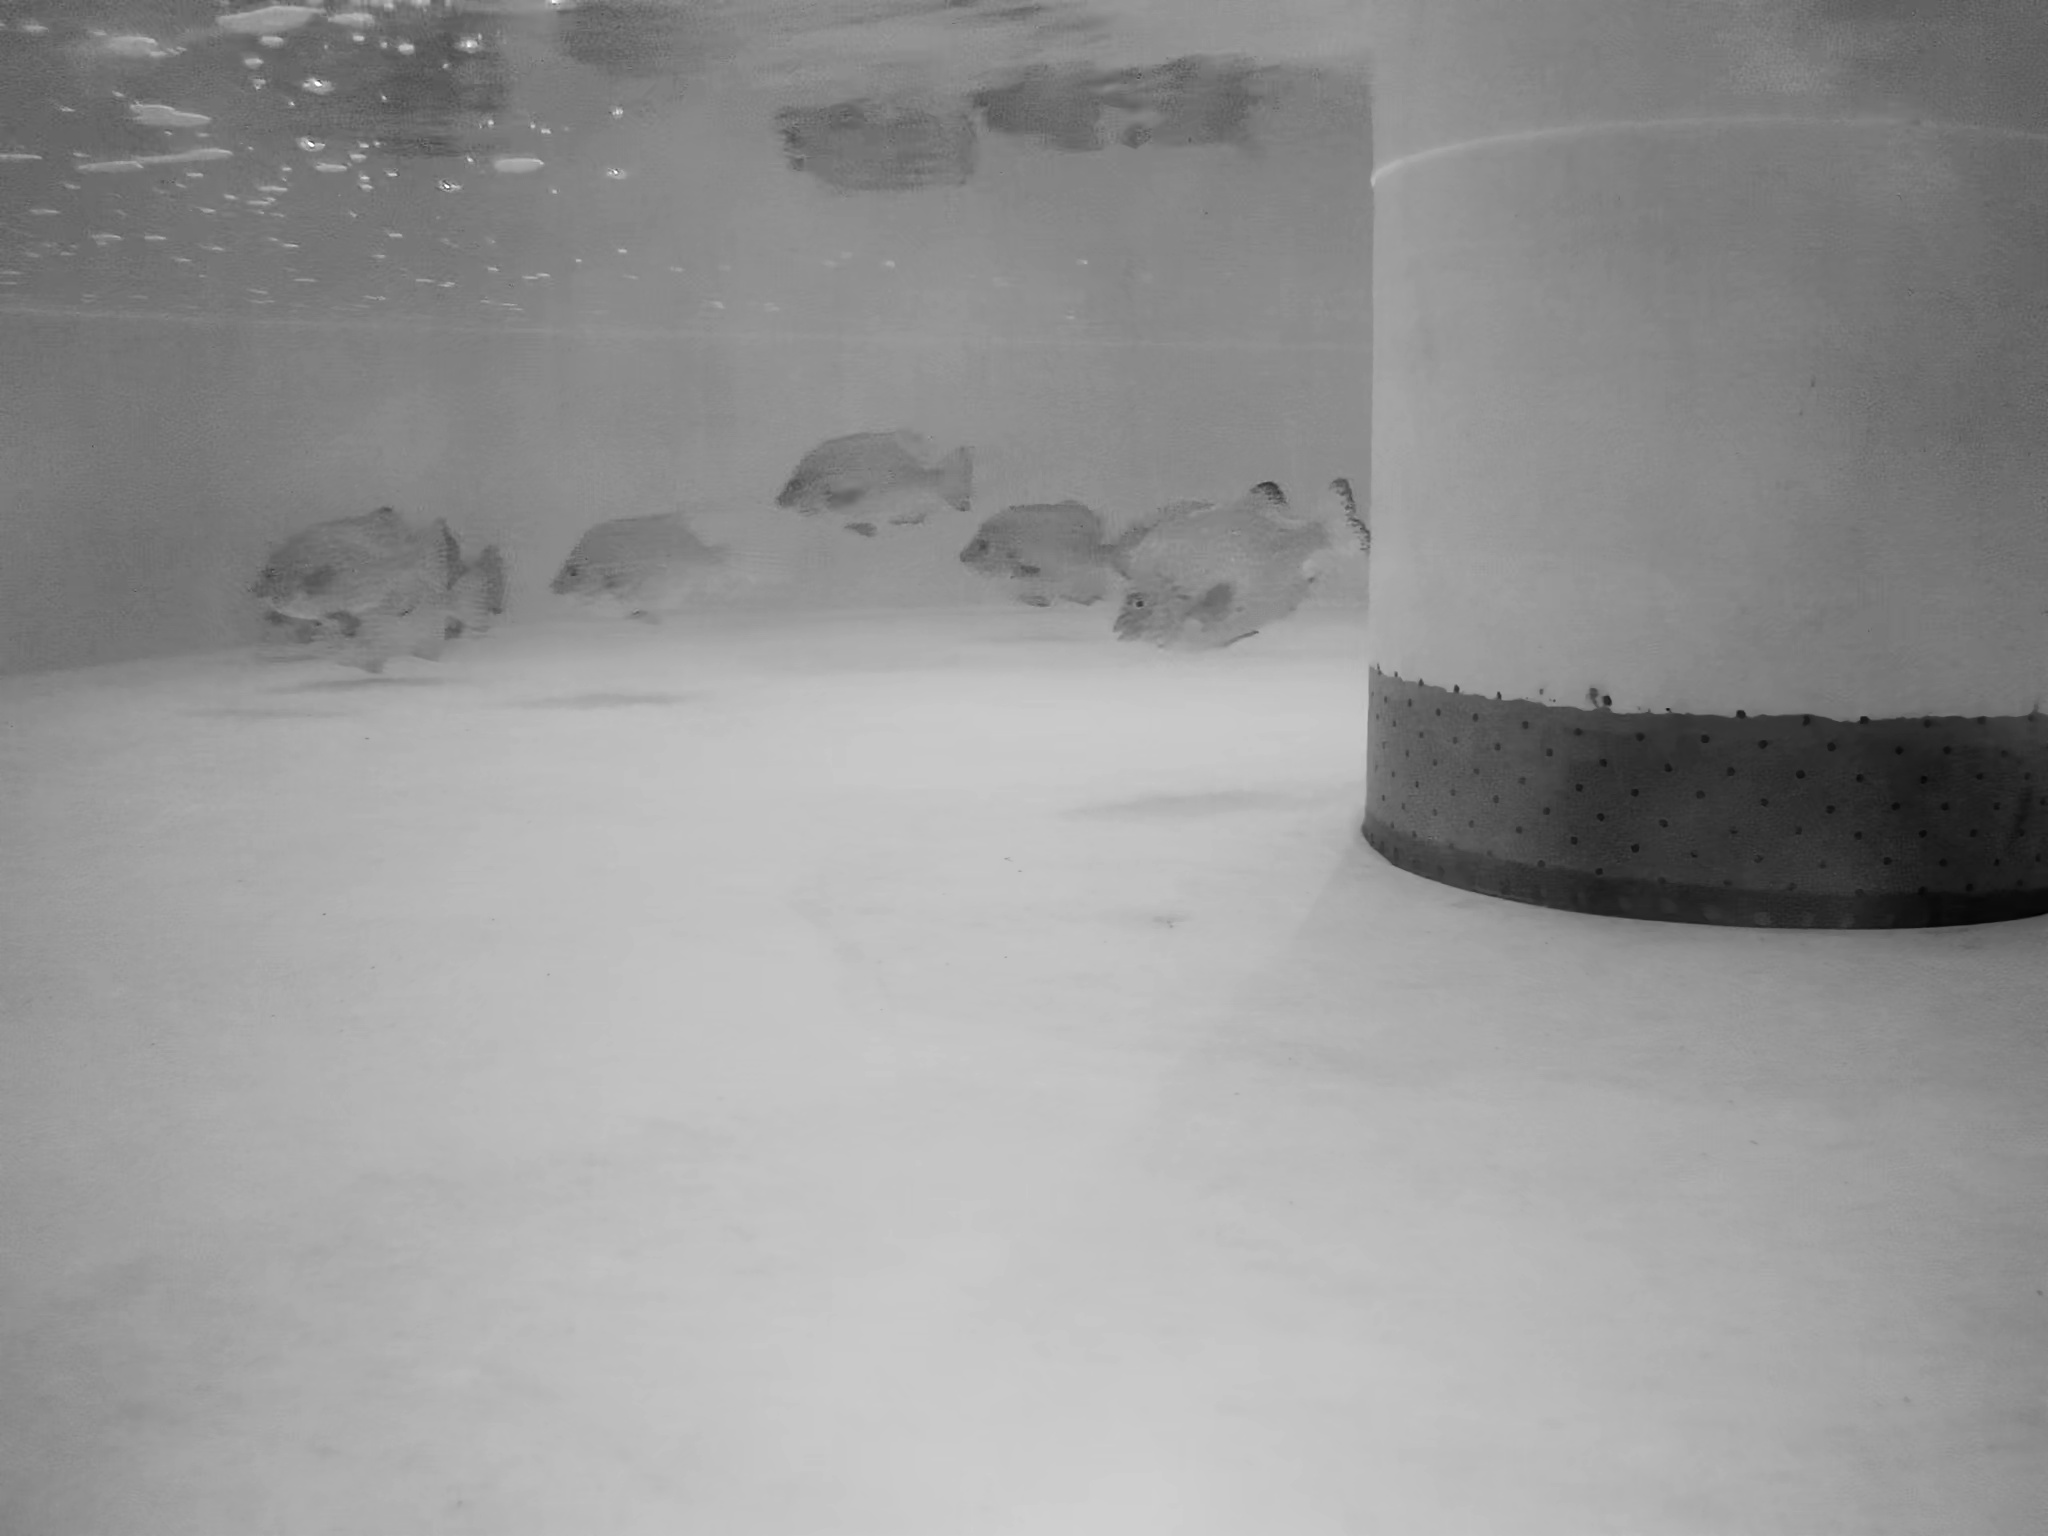fish: (1119, 468, 1374, 653), (250, 502, 458, 620), (556, 520, 750, 623), (782, 429, 974, 526), (956, 507, 1163, 595), (297, 584, 466, 679), (368, 547, 513, 629)
